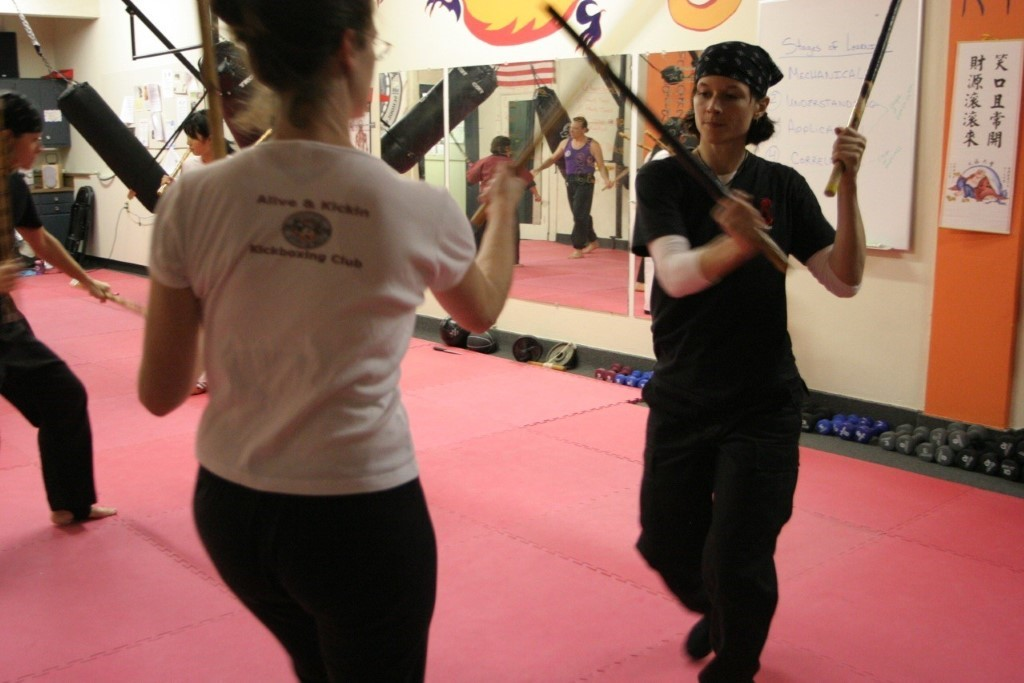baston_e: (544, 13, 778, 256), (479, 6, 651, 216), (838, 3, 895, 192), (194, 8, 225, 161), (103, 292, 153, 317), (161, 148, 189, 191)
baston_v: (466, 207, 489, 231), (777, 255, 797, 276), (820, 183, 840, 198), (540, 1, 558, 14), (154, 185, 166, 199), (643, 128, 650, 137)
